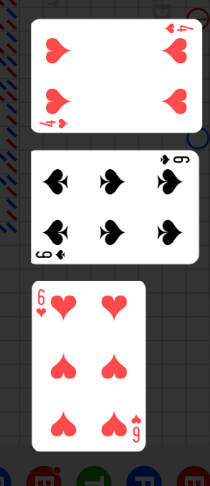4H: (164, 22, 196, 35)
6H: (130, 412, 143, 444)
6S: (35, 248, 68, 260)
